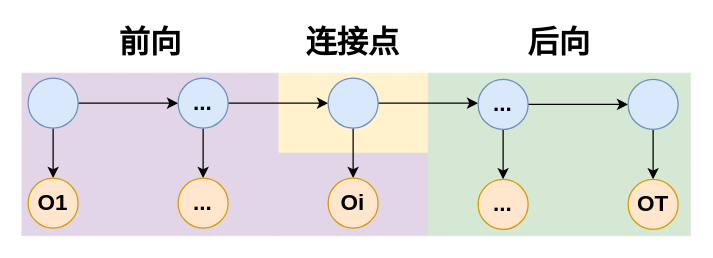
The diagram is 713 pixels wide and 258 high, and some of its shapes have lost their labels. Here are the shapes that lost their labels. From the top down, the centre of each, then its label:
the point at 52,102: I1
the point at 352,102: Ii
the point at 652,103: IT
